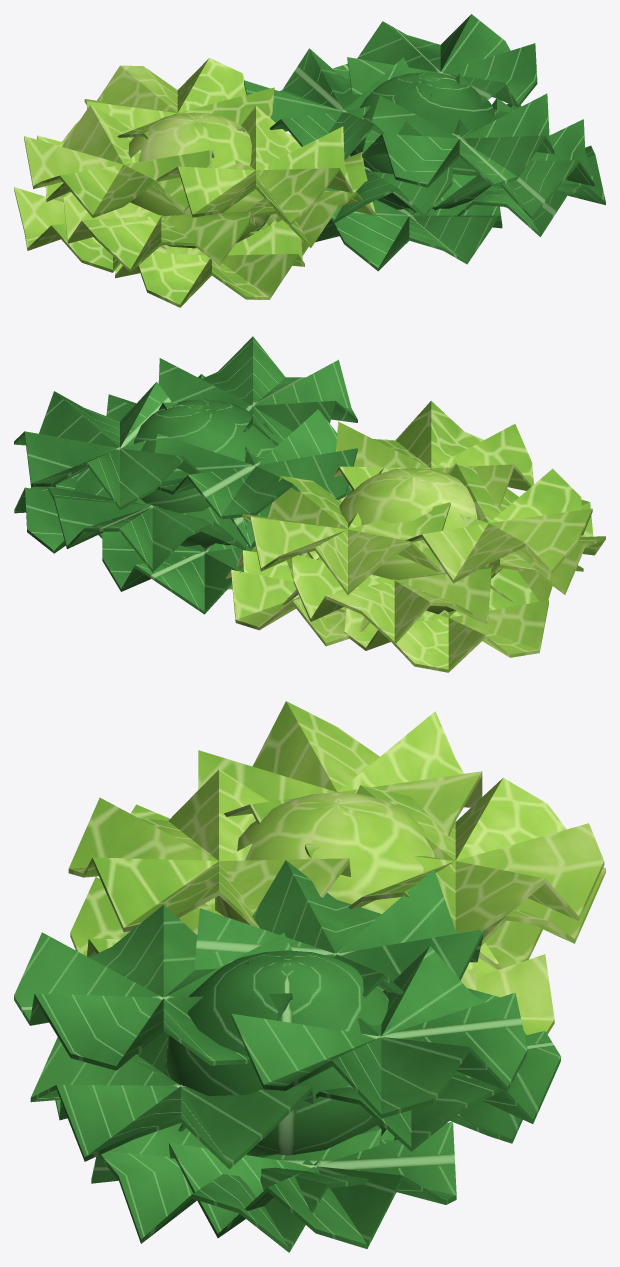
File: veg_lettuce_heads.glb
The picture shows the model from 3 angles, top to bottom: view 1: azimuth 30°, elevation 25°; view 2: azimuth 150°, elevation 25°; view 3: azimuth 270°, elevation 25°; orthographic projection. The views are drawn at different scales.
Parts seen in each view (by area): view 1: veg_lettuce_heads; view 2: veg_lettuce_heads; view 3: veg_lettuce_heads.
Boxes of the visible parts, box(x1,y1,x2,y2) form: veg_lettuce_heads: box(14, 14, 605, 307); veg_lettuce_heads: box(14, 336, 605, 672); veg_lettuce_heads: box(14, 701, 605, 1252).
Bounding box in the file's own units: 0.3639 × 0.0901 × 0.2381.
2 materials, 2 textured.
